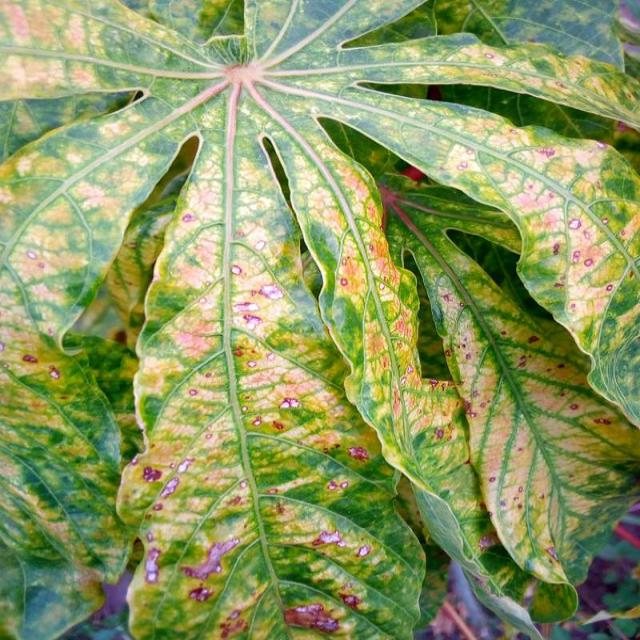Mosaico: (13, 11, 597, 601)
